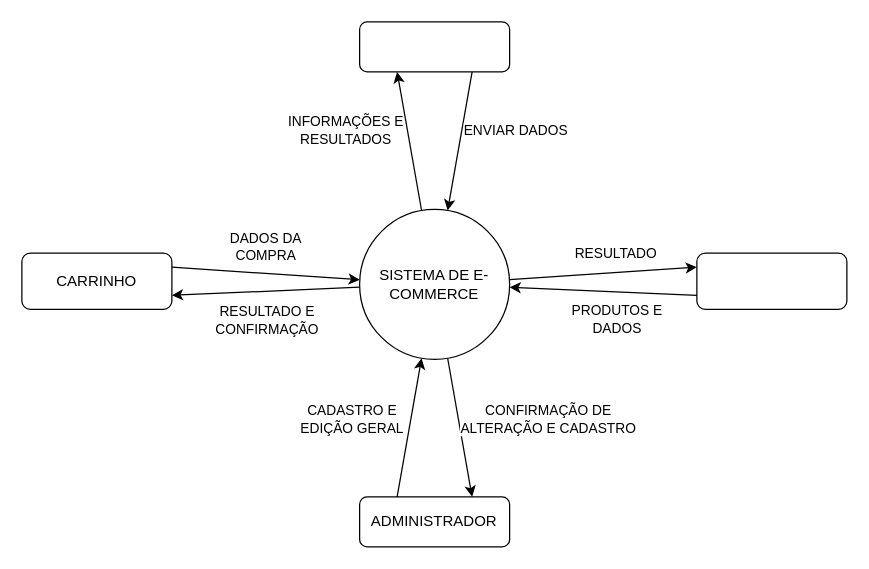
This 869x569 diagram has some shape labels left out. Each missing label, with the centre of its shape:
CLIENTES: the point at 434,46
FORNECEDOR: the point at 771,280
